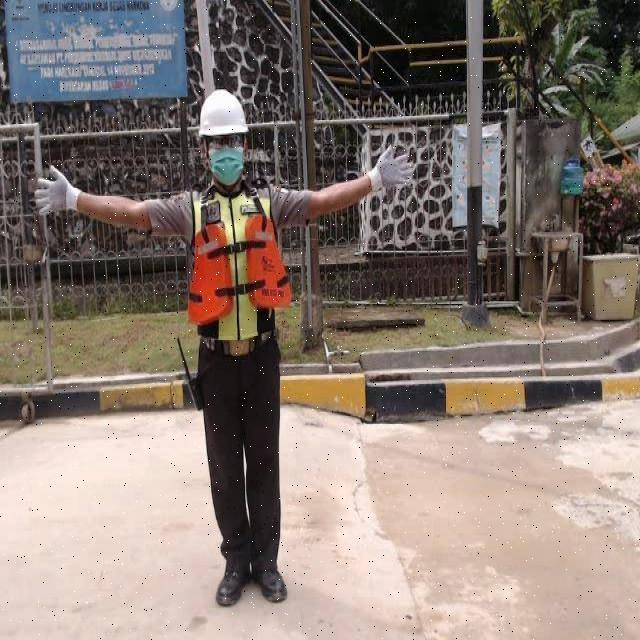Hard_hat: (191, 93, 252, 146)
Person: (36, 96, 417, 624)
Vest: (187, 188, 271, 344)
